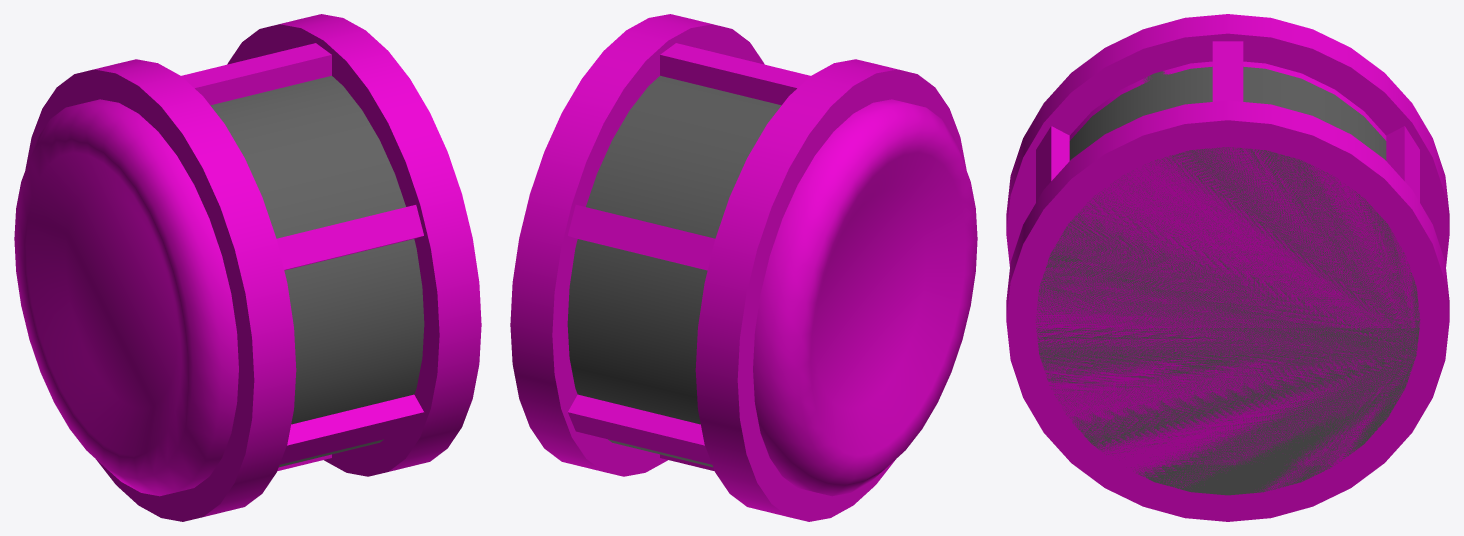
Rendered from Comp_Airlock.fbx.
3 views of the same model, side by side, from view 1: azimuth 30°, elevation 25°; view 2: azimuth 150°, elevation 25°; view 3: azimuth 270°, elevation 25° (orthographic). The views are drawn at different scales.
Visible parts, largest first — view 1: Cylinder.084, Cylinder.081, Cylinder.083, Cylinder.082, Cube.035; view 2: Cylinder.084, Cylinder.081, Cylinder.083, Cylinder.082, Cube.035; view 3: Cylinder.082, Cylinder.081, Cylinder.083, Cube.035, Cylinder.084.
Part boxes in pixels (<box>): Cylinder.084: <box>14,99,238,496</box>; Cylinder.081: <box>210,75,424,467</box>; Cylinder.083: <box>25,59,296,521</box>; Cylinder.082: <box>227,14,481,476</box>; Cube.035: <box>181,43,423,471</box>; Cylinder.084: <box>753,99,977,496</box>; Cylinder.081: <box>567,75,781,467</box>; Cylinder.083: <box>695,59,966,521</box>; Cylinder.082: <box>510,14,764,476</box>; Cube.035: <box>568,43,810,471</box>; Cylinder.082: <box>1006,100,1449,521</box>; Cylinder.081: <box>1036,66,1420,495</box>; Cylinder.083: <box>1006,14,1449,266</box>; Cube.035: <box>1036,41,1419,202</box>; Cylinder.084: <box>1069,61,1386,140</box>.
Size of the model in its own units: 452 by 691 by 691.
